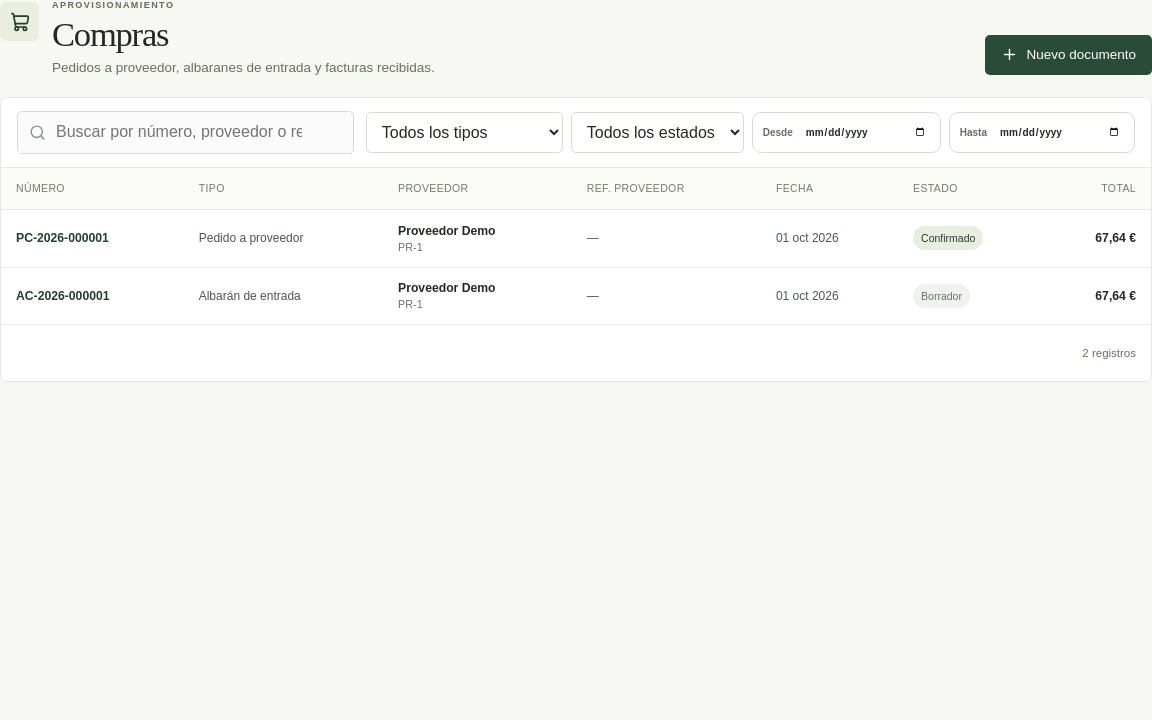
Test: warns that confirming a goods receipt moves stock and confirms it only once
Click the text "AC-2026-000001".
click(63, 296)  # box [16,289,110,303]
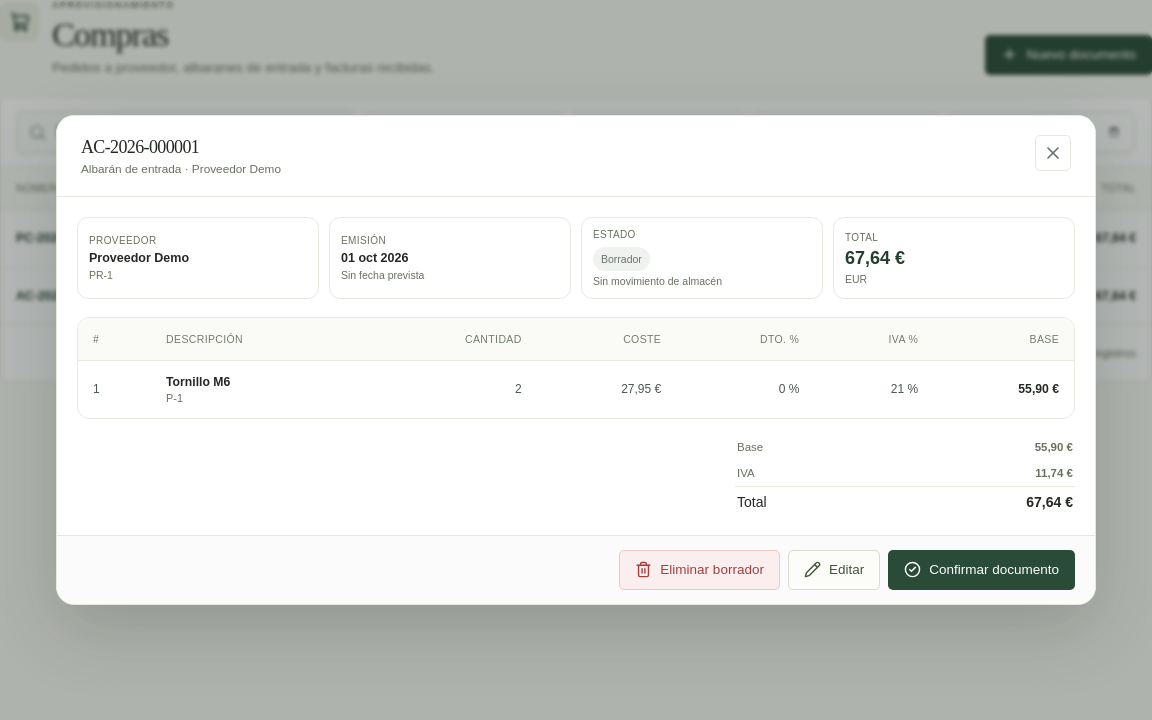
Click the button "Confirmar documento".
click(982, 570)  # box [888,550,1075,590]
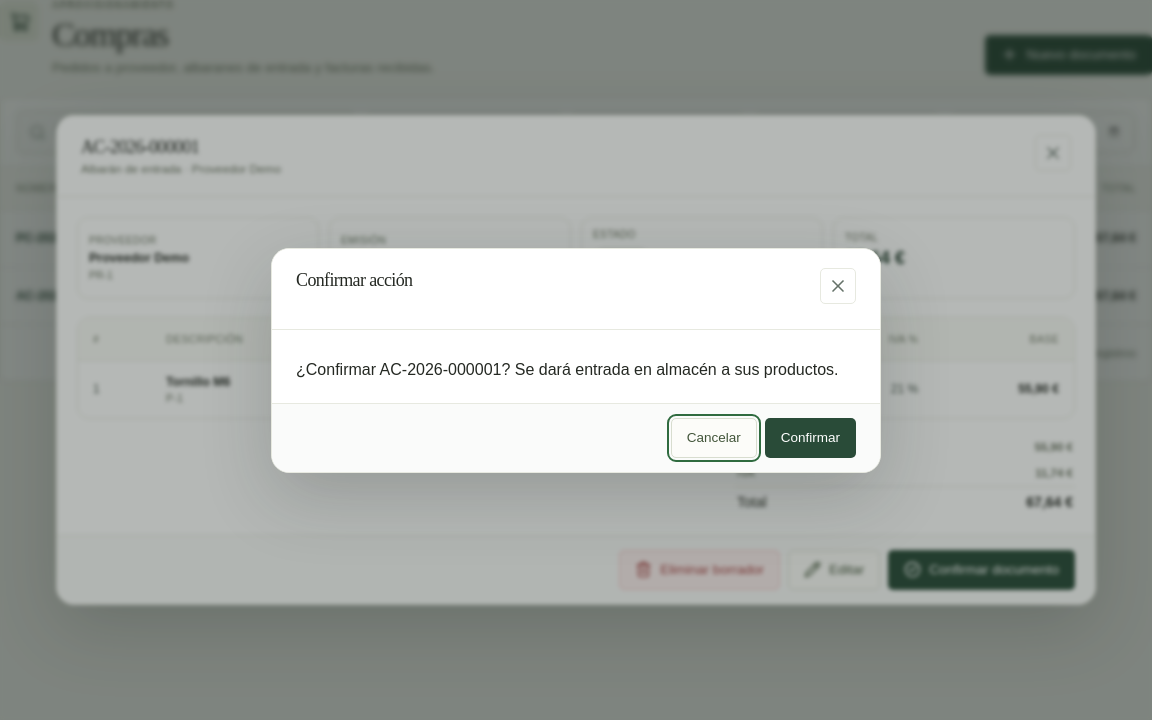
Expected: the dialog "Confirmar acción" shows "Se dará entrada en almacén", [296,360,838,378]
Click the button "Cancelar".
click(714, 438)  # box [671,418,757,458]
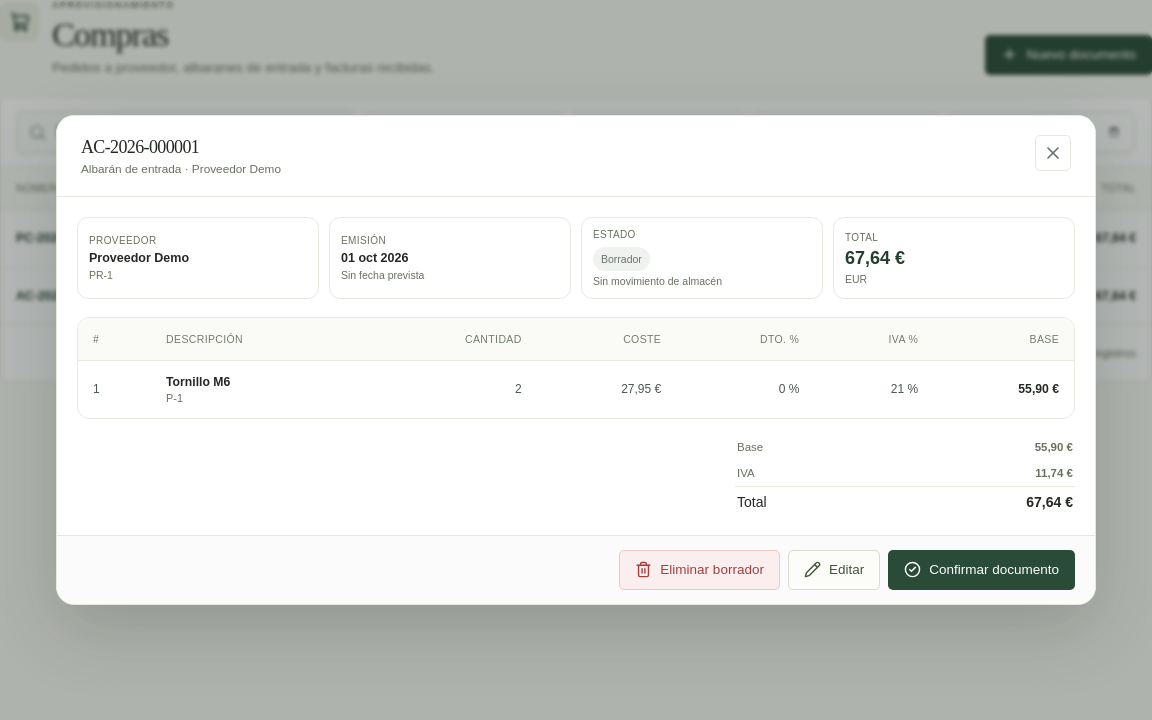
Expected: the heading "Confirmar acción" is gone
Click the button "Confirmar documento".
click(982, 570)  # box [888,550,1075,590]
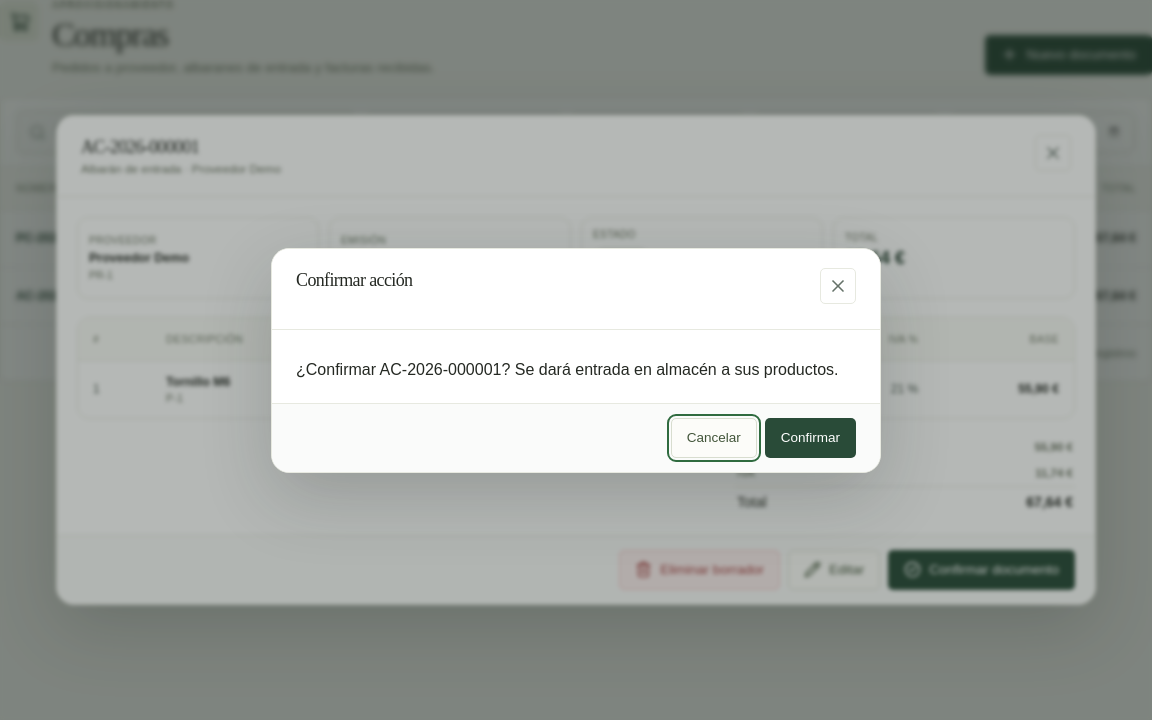
Click the button "Confirmar".
click(810, 438)  # box [765,418,856,458]
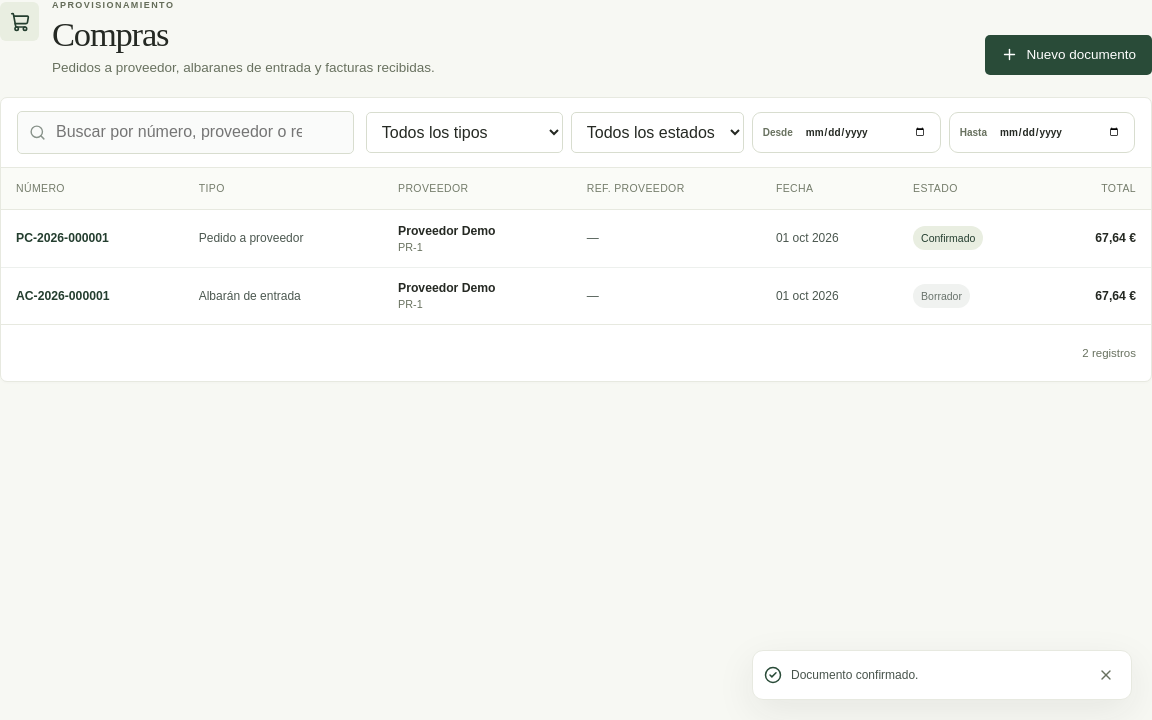
Expected: the text "Documento confirmado." is shown, [791,668,918,682]
